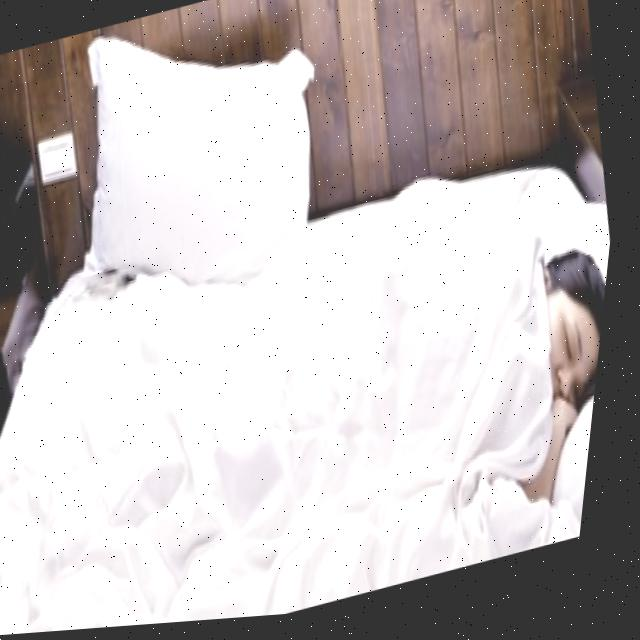sleeping-person: (0, 163, 624, 638)
